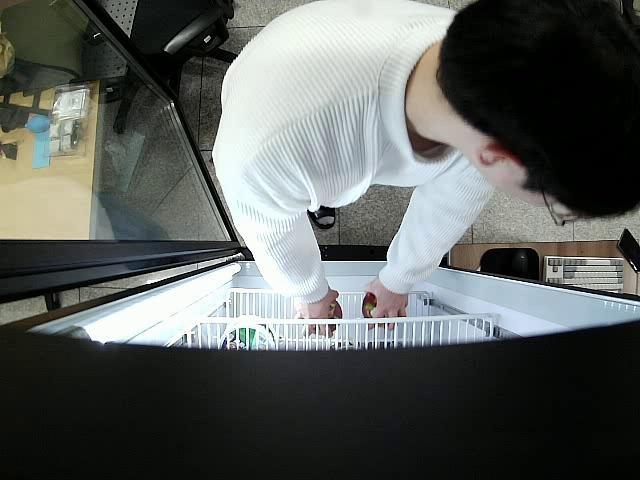06_nuguri_S: (306, 299, 342, 335), (362, 291, 394, 328)
